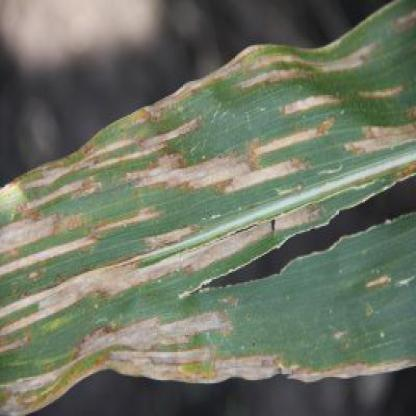Corn Gray leaf spot: (1, 2, 414, 414)
